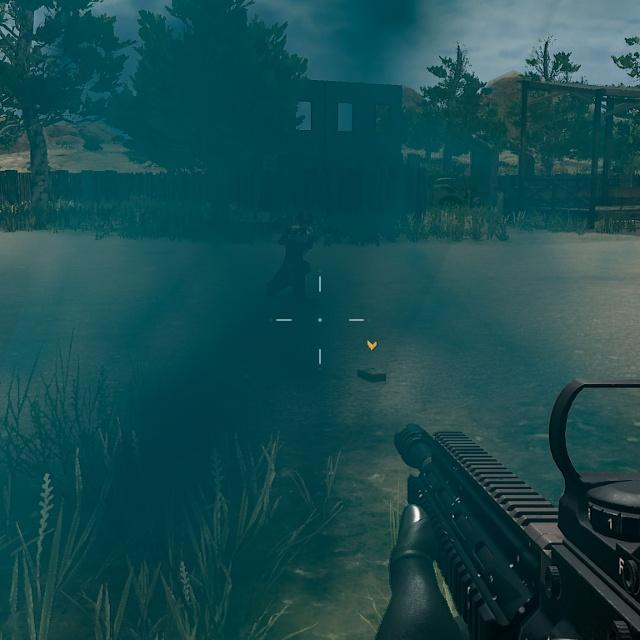people: (260, 214, 322, 314)
